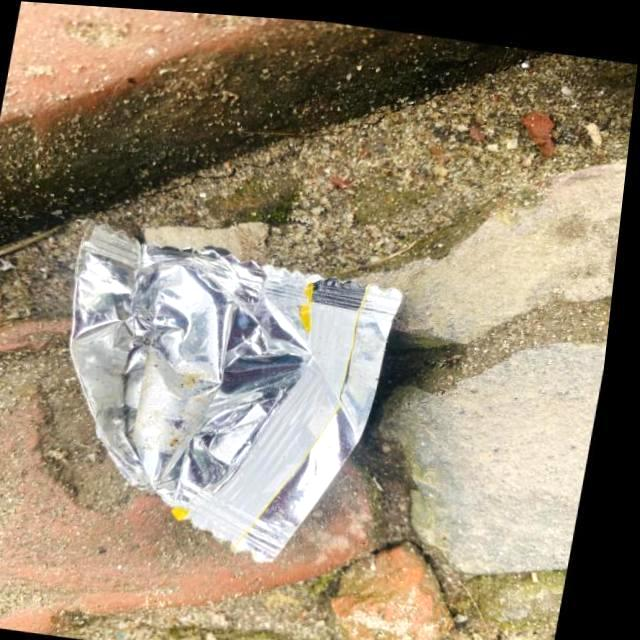packet: (36, 222, 409, 568)
